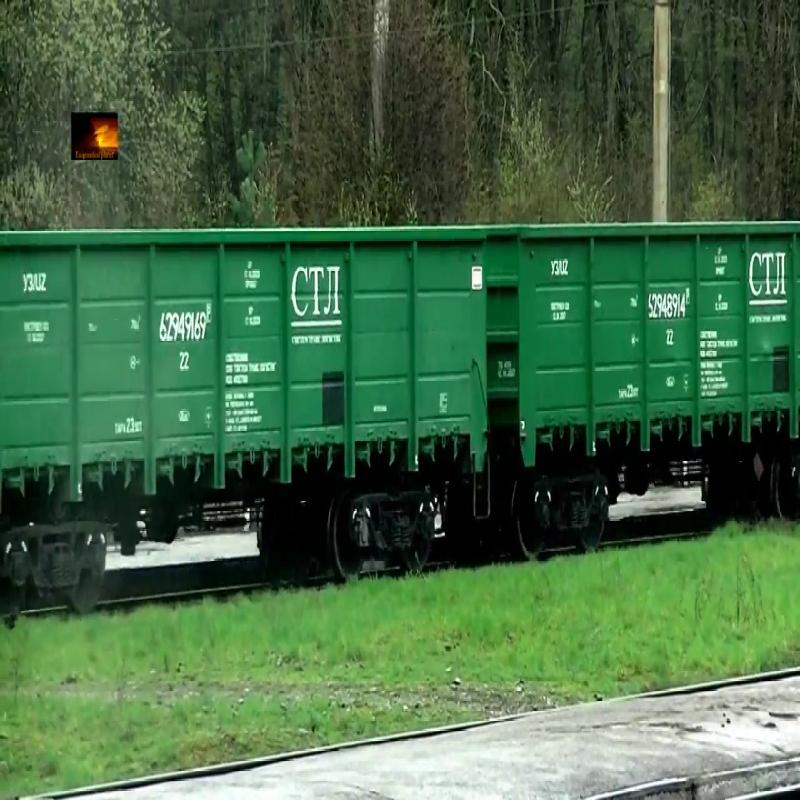train: (1, 219, 488, 515), (489, 213, 800, 497)
